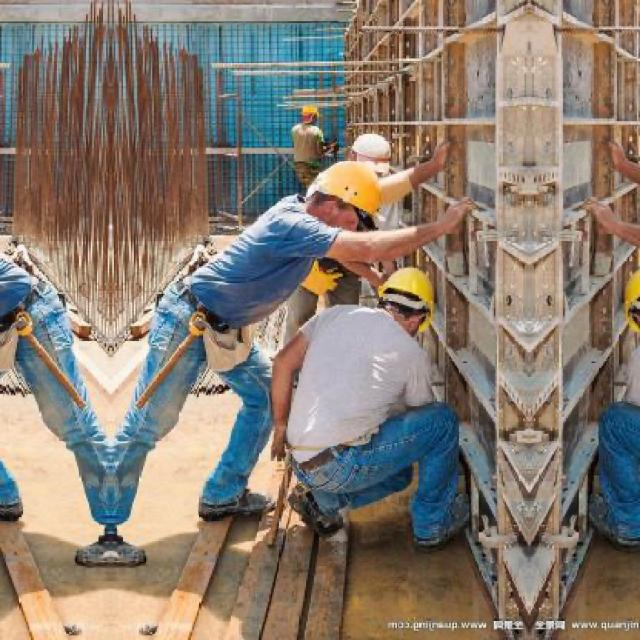helmet: (304, 162, 394, 238), (376, 265, 442, 337), (618, 263, 640, 337), (300, 101, 323, 128)
